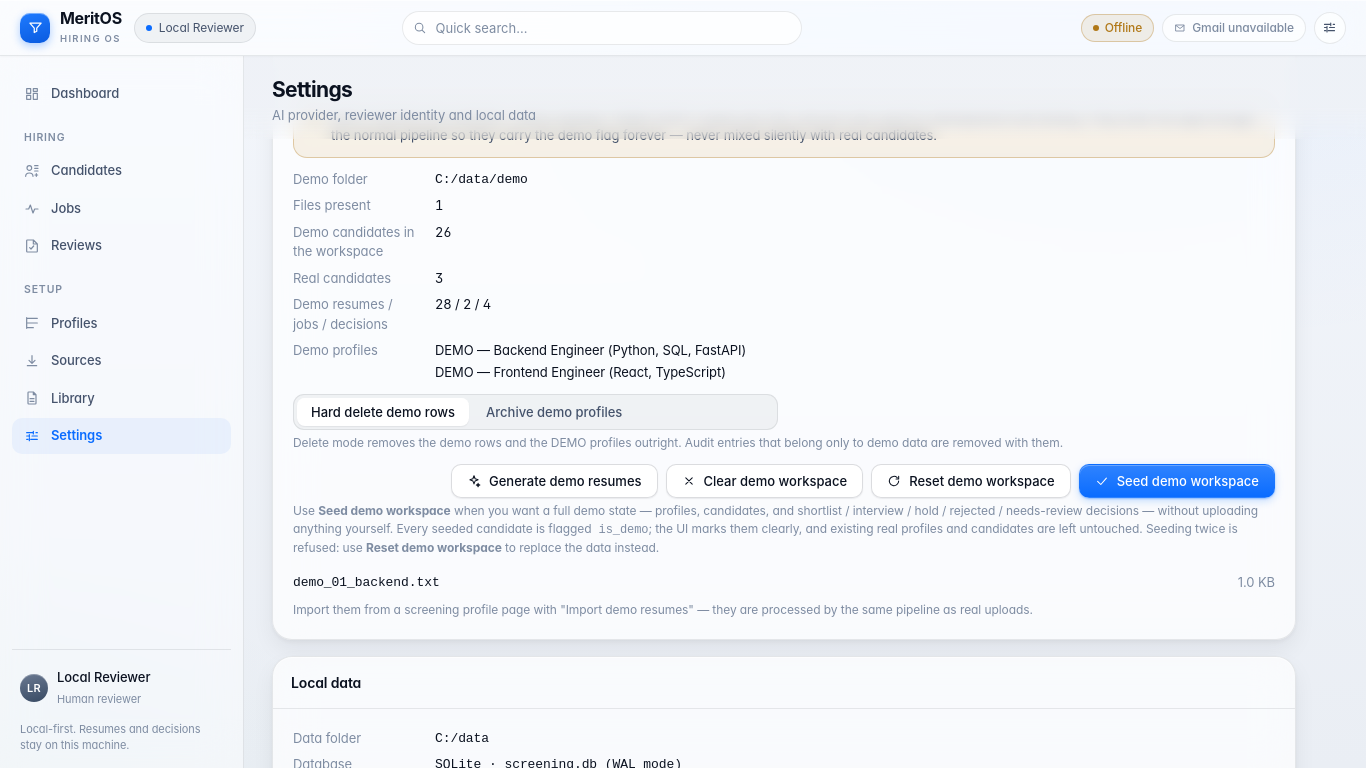
demo workspace controls › clears in archive mode when archive is selected
(page scrolled)
Click the button "Archive demo profiles".
click(554, 412)  # box [472,398,636,426]
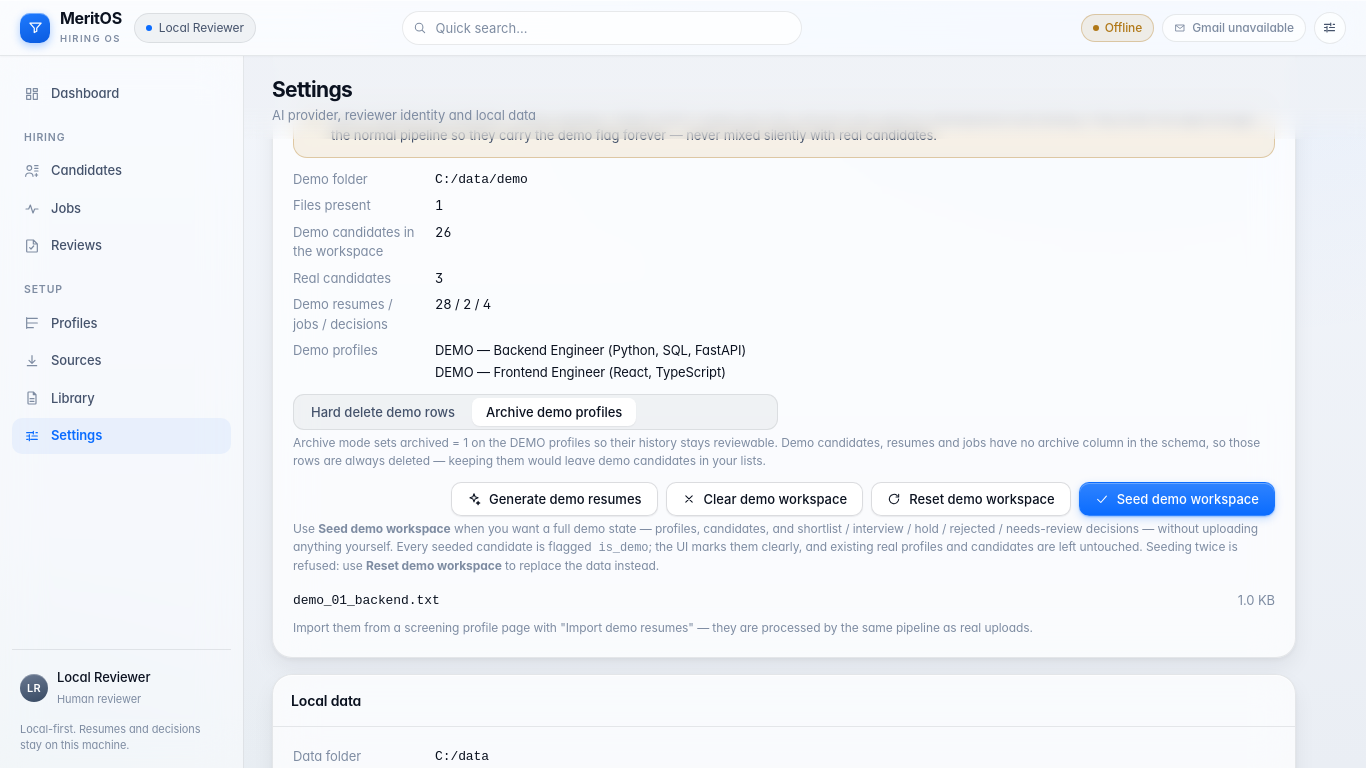
Click the button "Clear demo workspace".
click(764, 499)  # box [666,482,863,516]
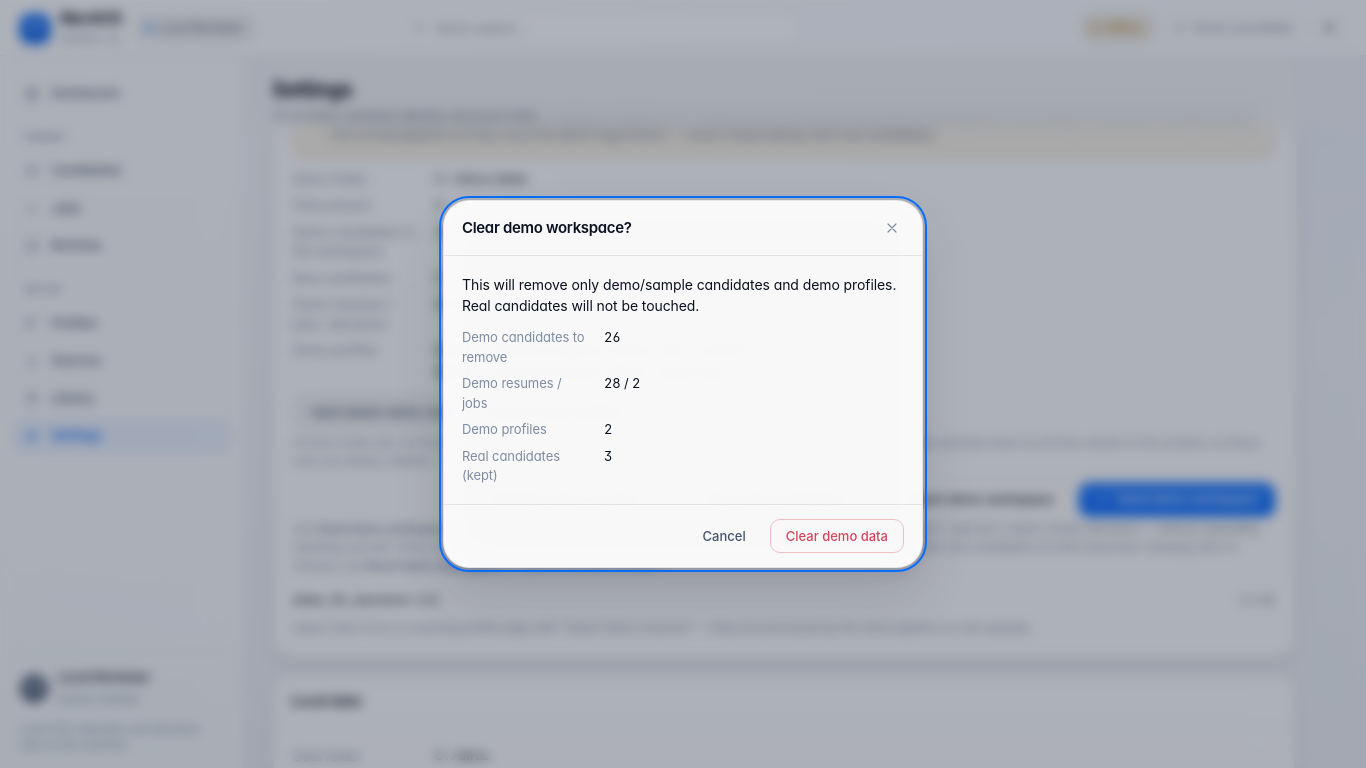
Check: the dialog "Clear demo workspace?" is shown, box [443,200,923,568]
Click the button "Clear demo data".
click(837, 536)  # box [770,519,904,553]
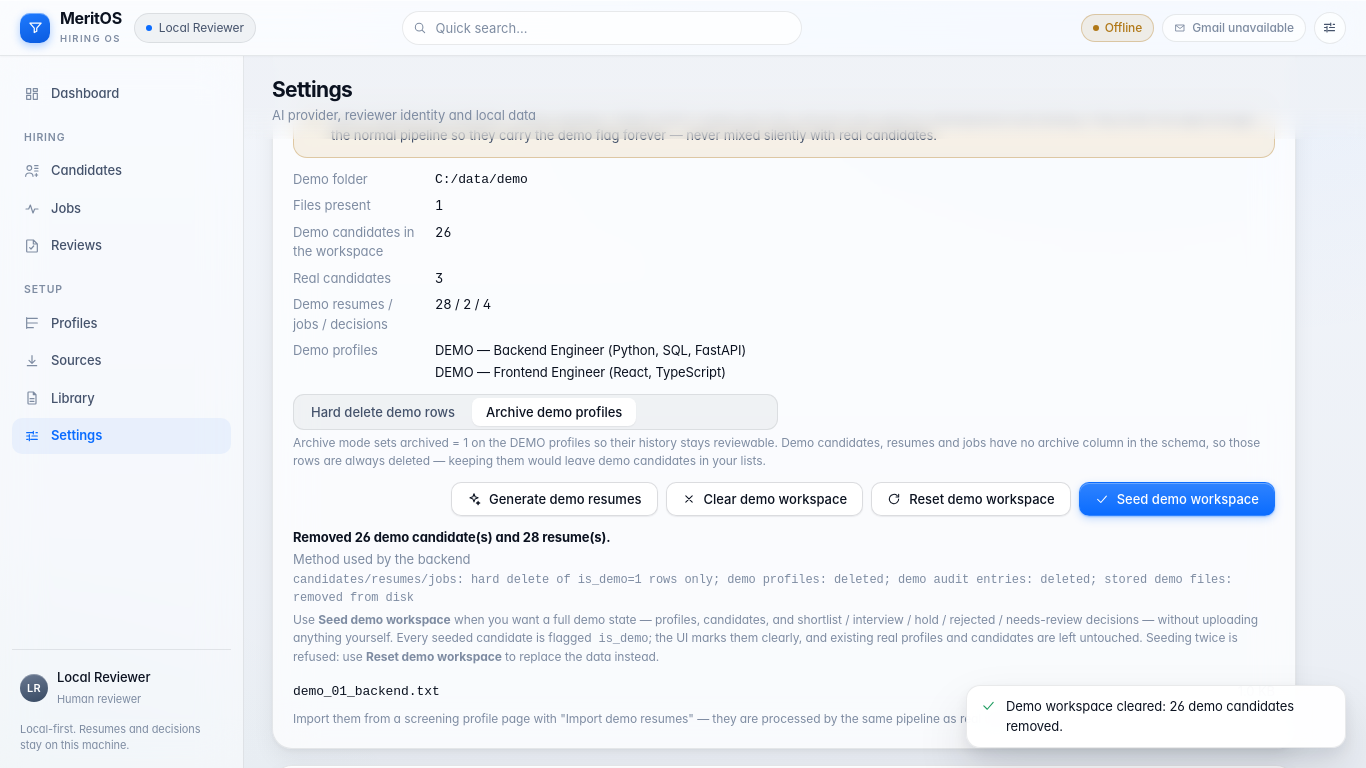
Check: the text "Demo workspace cleared: 26 demo candidates removed." is shown, box [1006,697,1331,736]
